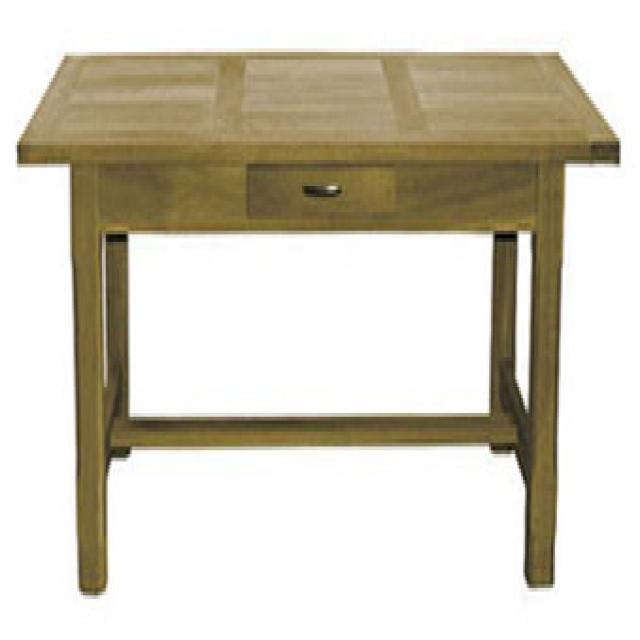table: (17, 47, 621, 594)
